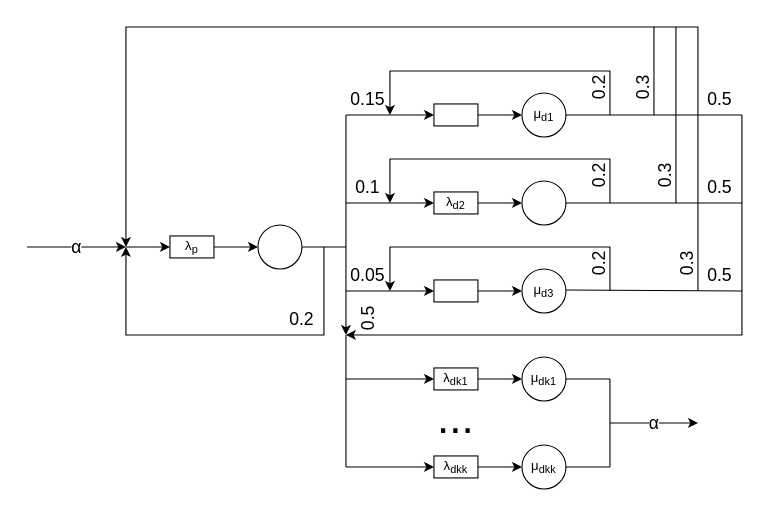
The diagram is 770 pixels wide and 508 high, and some of its shapes have lost their labels. Here are the shapes that lost their labels. From the top down, the box of each, then its label:
(433, 103, 478, 126): λ d1
(521, 180, 566, 225): μ d2
(257, 224, 302, 269): μ p
(433, 279, 478, 302): λ d3
